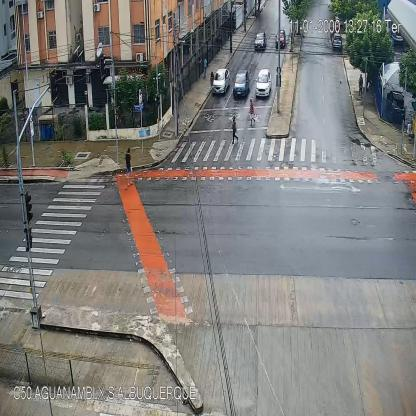car: (211, 68, 230, 92), (256, 68, 272, 96), (233, 70, 250, 96), (254, 33, 266, 49), (276, 30, 286, 49), (332, 34, 342, 48)
person: (125, 148, 133, 185), (230, 115, 238, 143), (249, 98, 256, 127), (358, 73, 364, 98), (203, 57, 207, 78)
